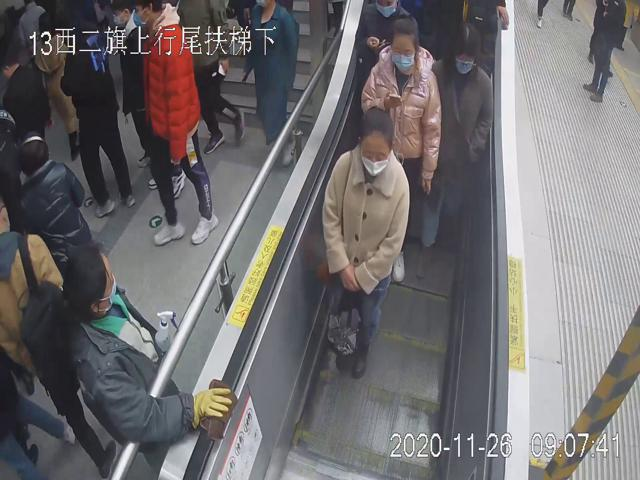person: (60, 242, 233, 443), (322, 106, 412, 378), (132, 0, 219, 246), (414, 21, 494, 280), (359, 22, 443, 199)
